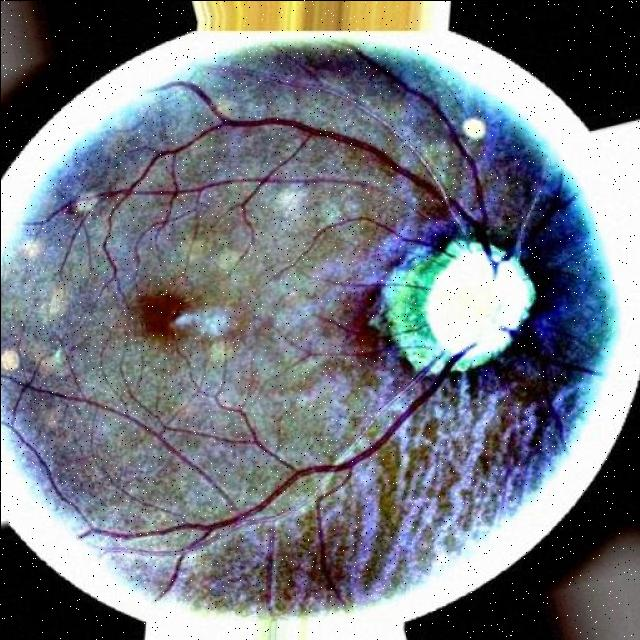Macula: (115, 268, 214, 364)
Nerves: (218, 108, 478, 231), (231, 389, 436, 533), (378, 66, 488, 209)
Optic Disk: (390, 228, 535, 382)
